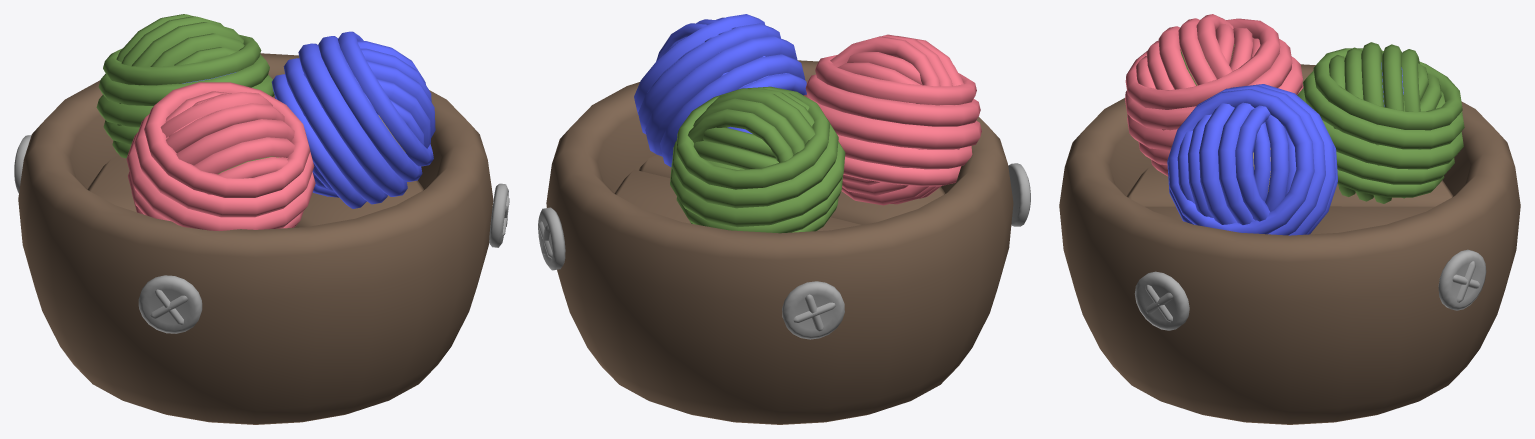
Rendered from YarnBall.fbx.
3 views of the same model, side by side, from view 1: azimuth 30°, elevation 25°; view 2: azimuth 150°, elevation 25°; view 3: azimuth 270°, elevation 25° (orthographic). The views are drawn at different scales.
Visible parts, largest first — view 1: S_YarnBall_, S_YarnBall, M_YarnBall, D_YarnBall_4, D_YarnBall_3, D_YarnBall_1; view 2: S_YarnBall_, S_YarnBall, M_YarnBall, D_YarnBall_1, D_YarnBall_2, D_YarnBall_4; view 3: S_YarnBall_, S_YarnBall, M_YarnBall, D_YarnBall_3, D_YarnBall_2.
Part boxes in pixels (bbox=[...]): S_YarnBall_: bbox=[18, 53, 493, 424]; S_YarnBall: bbox=[96, 14, 435, 231]; M_YarnBall: bbox=[87, 72, 423, 227]; D_YarnBall_4: bbox=[138, 275, 202, 333]; D_YarnBall_3: bbox=[489, 183, 509, 247]; D_YarnBall_1: bbox=[14, 135, 31, 193]; S_YarnBall_: bbox=[546, 60, 1013, 424]; S_YarnBall: bbox=[634, 14, 981, 233]; M_YarnBall: bbox=[614, 126, 945, 231]; D_YarnBall_1: bbox=[782, 281, 844, 339]; D_YarnBall_2: bbox=[538, 207, 565, 270]; D_YarnBall_4: bbox=[1008, 163, 1030, 226]; S_YarnBall_: bbox=[1059, 64, 1520, 424]; S_YarnBall: bbox=[1125, 14, 1464, 235]; M_YarnBall: bbox=[1127, 44, 1452, 234]; D_YarnBall_3: bbox=[1134, 271, 1189, 330]; D_YarnBall_2: bbox=[1438, 249, 1486, 310].
Bounding box in the file's own units: 443 × 318 × 443.
